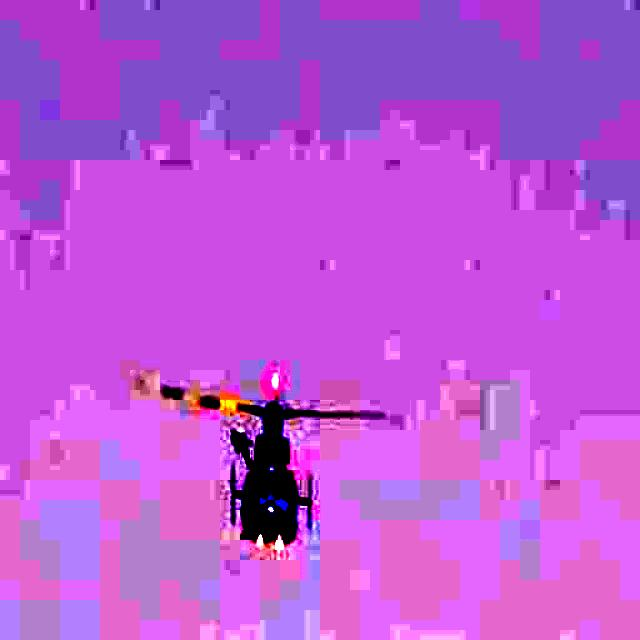drone: (115, 298, 392, 599)
